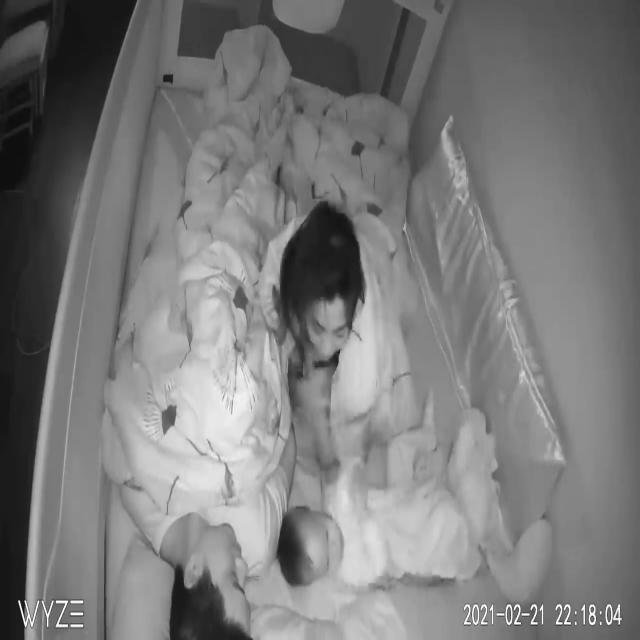baby: (284, 390, 471, 598)
